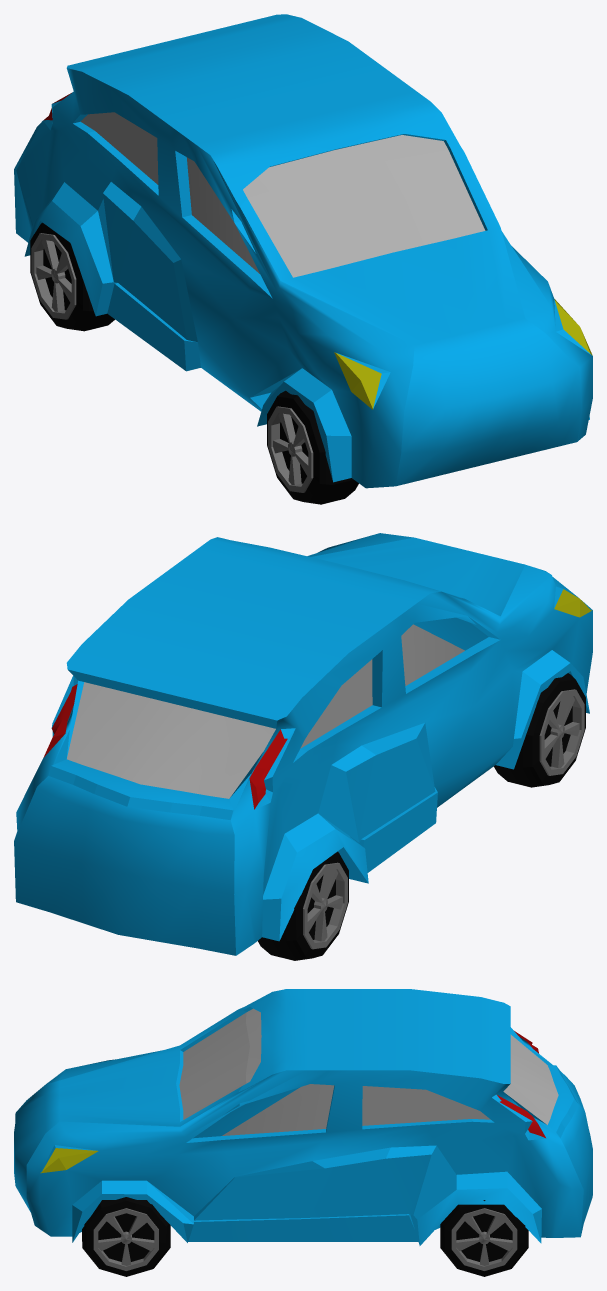
The model's file is modelSUV.fbx.
3 views of the same model, one above another, from view 1: azimuth 30°, elevation 25°; view 2: azimuth 150°, elevation 25°; view 3: azimuth 270°, elevation 25° (orthographic). The views are drawn at different scales.
Visible parts, largest first — view 1: Body, FrontRightTire, BackRightTire; view 2: Body, FrontRightTire, BackRightTire; view 3: Body, FrontLeftTire, BackLeftTire.
Boxes of the visible parts, x1,y1,x2,y2 form: Body: [14, 14, 592, 488]; FrontRightTire: [267, 390, 358, 504]; BackRightTire: [30, 222, 114, 331]; Body: [14, 533, 592, 955]; FrontRightTire: [494, 673, 585, 787]; BackRightTire: [258, 851, 348, 960]; Body: [14, 989, 592, 1245]; FrontLeftTire: [82, 1197, 170, 1276]; BackLeftTire: [440, 1200, 528, 1276].
Size of the model in its own units: 5.82 by 5.41 by 14.07.
